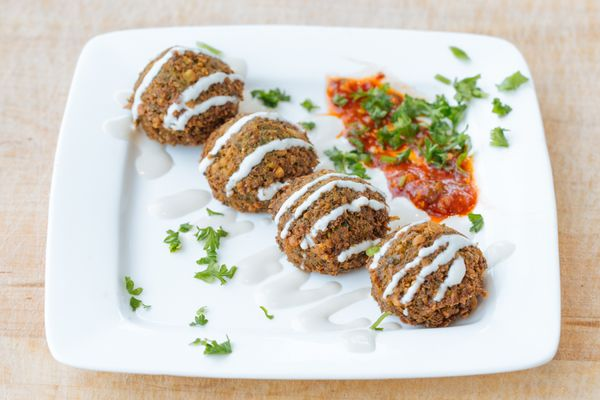soup: (199, 111, 319, 213)
